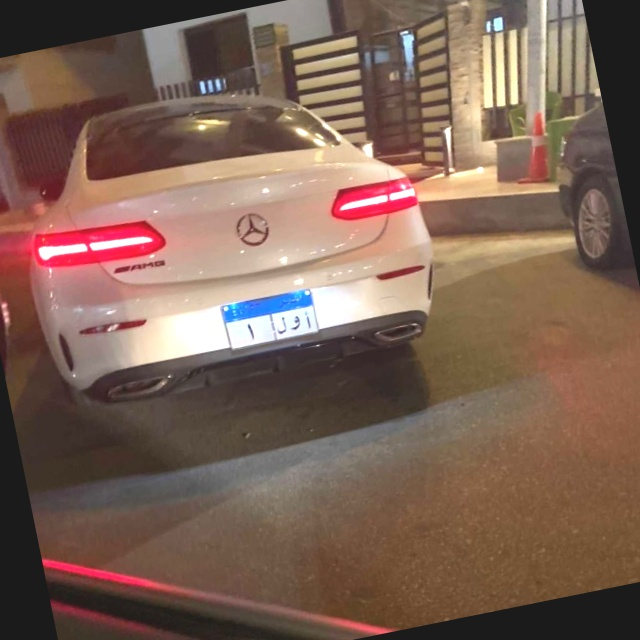License Plate: (220, 286, 320, 352)
